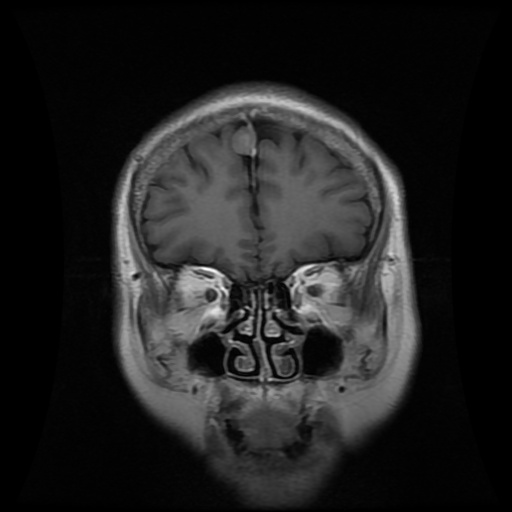meningioma: (232, 126, 256, 155)
